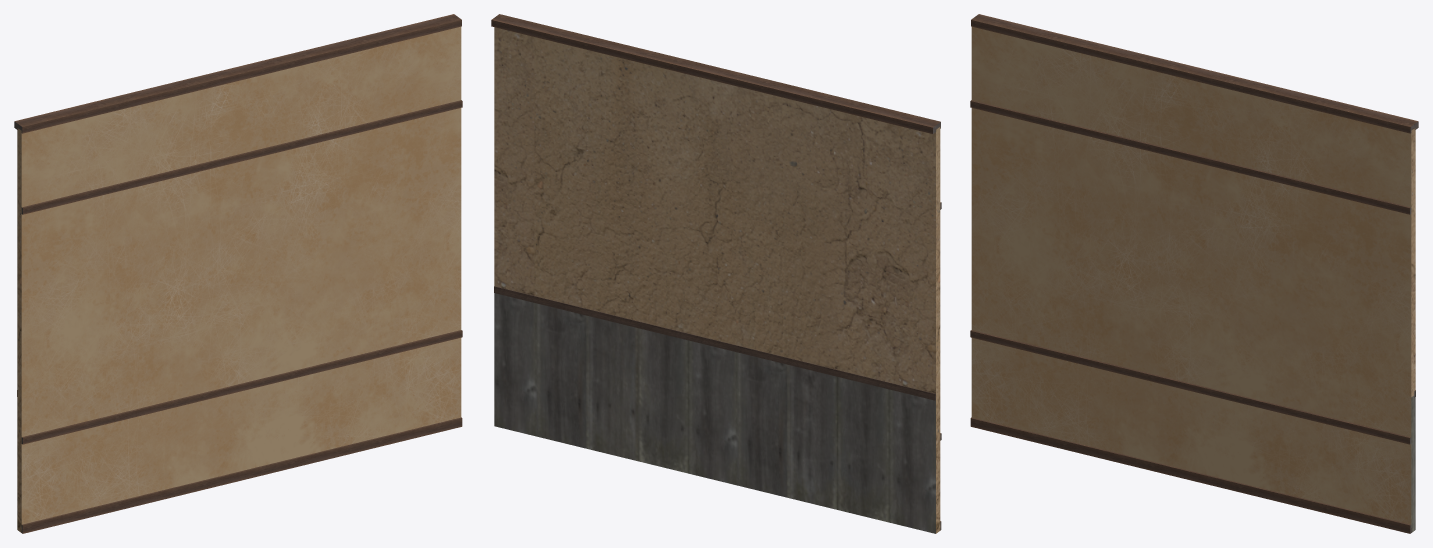
The model's file is outwall02_1.5t.fbx.
The picture shows the model from 3 angles, left to right: view 1: azimuth 30°, elevation 25°; view 2: azimuth 150°, elevation 25°; view 3: azimuth 330°, elevation 25°; orthographic projection.
Parts seen in each view (by area): view 1: outwall02_1.5t; view 2: outwall02_1.5t; view 3: outwall02_1.5t.
Boxes of the visible parts, x1,y1,x2,y2 form: outwall02_1.5t: (14, 14, 462, 533); outwall02_1.5t: (491, 14, 941, 533); outwall02_1.5t: (970, 14, 1418, 533).
Size of the model in its own units: 330 by 292 by 11.05.
